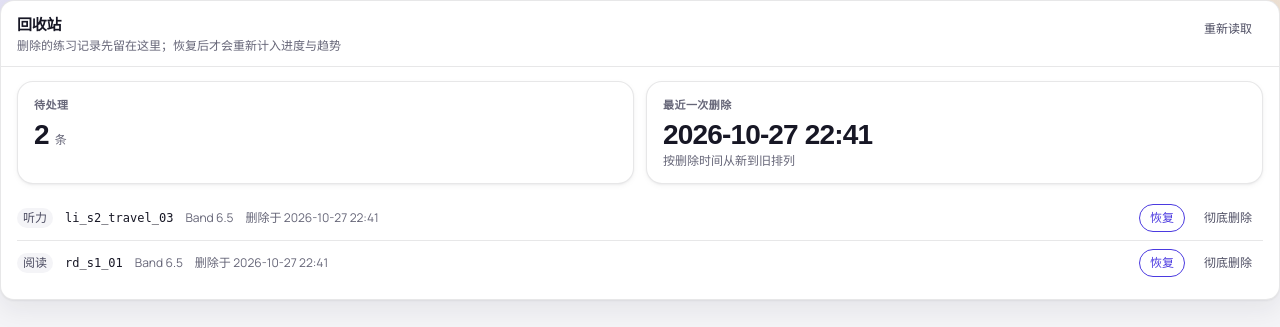
Test: 回收站（§14.8） › 恢复：发 POST /attempts/{id}/restore，行随之从列表消失
Check: the list named "回收站里的练习记录" is shown, box [17,196,1263,285]
Click the button "恢复" in the row of "听力": (1162, 218) [1139,204,1185,232]
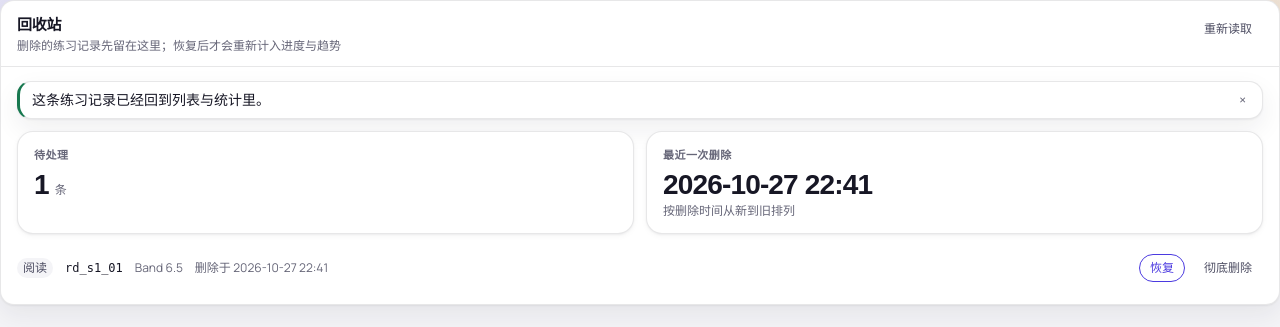
Check: the number of list items is 1, box [17,246,1263,290]
